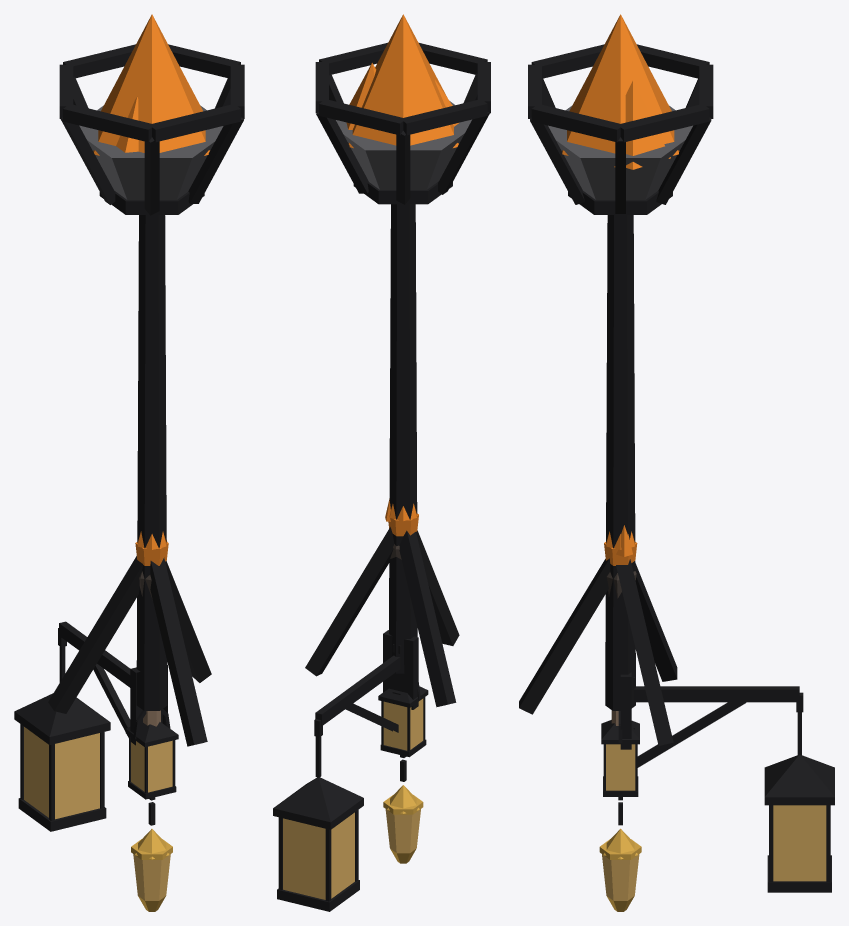
File: lichter.glb
The picture shows the model from 3 angles, left to right: view 1: azimuth 30°, elevation 25°; view 2: azimuth 150°, elevation 25°; view 3: azimuth 270°, elevation 25°; orthographic projection. The views are drawn at different scales.
Parts seen in each view (by area): view 1: Feuerkorb, Wandlaterne, Handlaterne, EwigesLicht, Fackel; view 2: Feuerkorb, Wandlaterne, Handlaterne, EwigesLicht, Fackel; view 3: Feuerkorb, Wandlaterne, Handlaterne, EwigesLicht, Fackel.
Boxes of the visible parts, left/top/right/bottom form: Feuerkorb: left=48, top=14, right=244, bottom=746; Wandlaterne: left=14, top=621, right=167, bottom=831; Handlaterne: left=125, top=709, right=178, bottom=799; EwigesLicht: left=131, top=797, right=172, bottom=911; Fackel: left=135, top=531, right=168, bottom=726; Feuerkorb: left=305, top=14, right=490, bottom=707; Wandlaterne: left=273, top=630, right=418, bottom=911; Handlaterne: left=378, top=682, right=428, bottom=757; EwigesLicht: left=383, top=755, right=423, bottom=863; Fackel: left=385, top=498, right=418, bottom=559; Feuerkorb: left=519, top=14, right=713, bottom=745; Wandlaterne: left=620, top=672, right=834, bottom=892; Handlaterne: left=601, top=711, right=639, bottom=796; EwigesLicht: left=599, top=797, right=641, bottom=911; Fackel: left=604, top=525, right=637, bottom=725.
Size of the model in its own units: 0.679 by 3.2 by 1.02.
